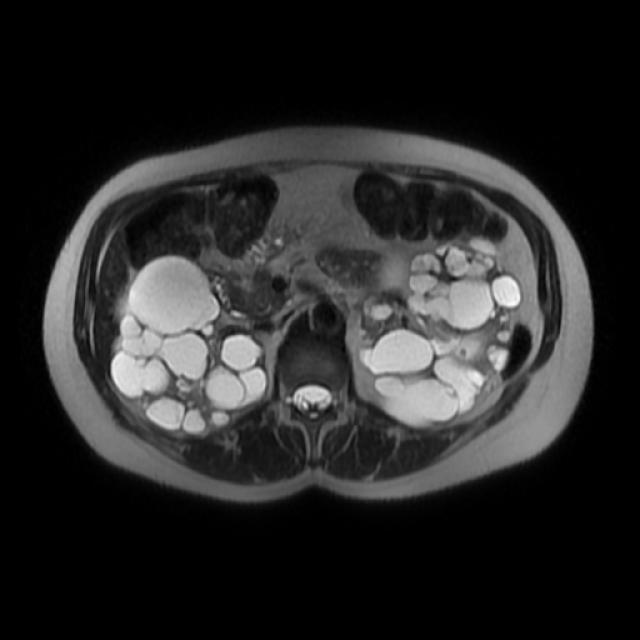sag: (110, 255, 266, 437)
sol: (355, 236, 520, 429)
